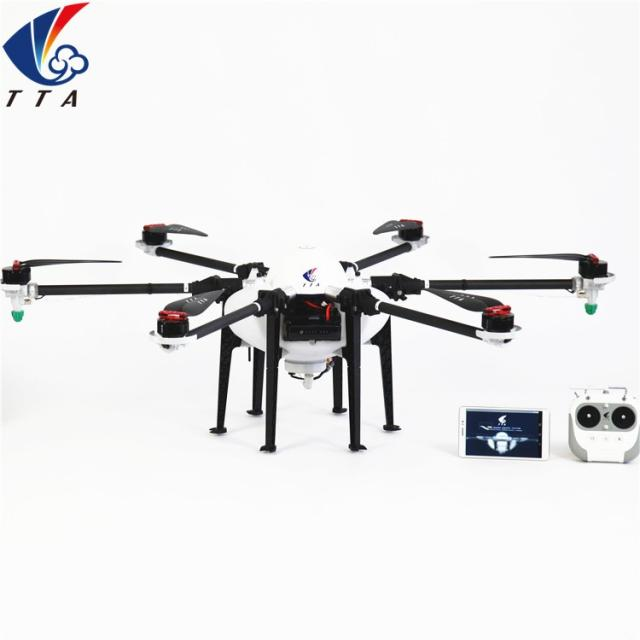drone: (0, 191, 592, 461)
